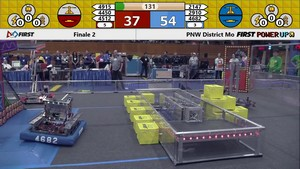cube: (137, 122, 160, 144), (135, 113, 152, 132), (202, 85, 225, 99), (230, 108, 249, 122), (140, 93, 155, 105), (126, 99, 140, 111)
